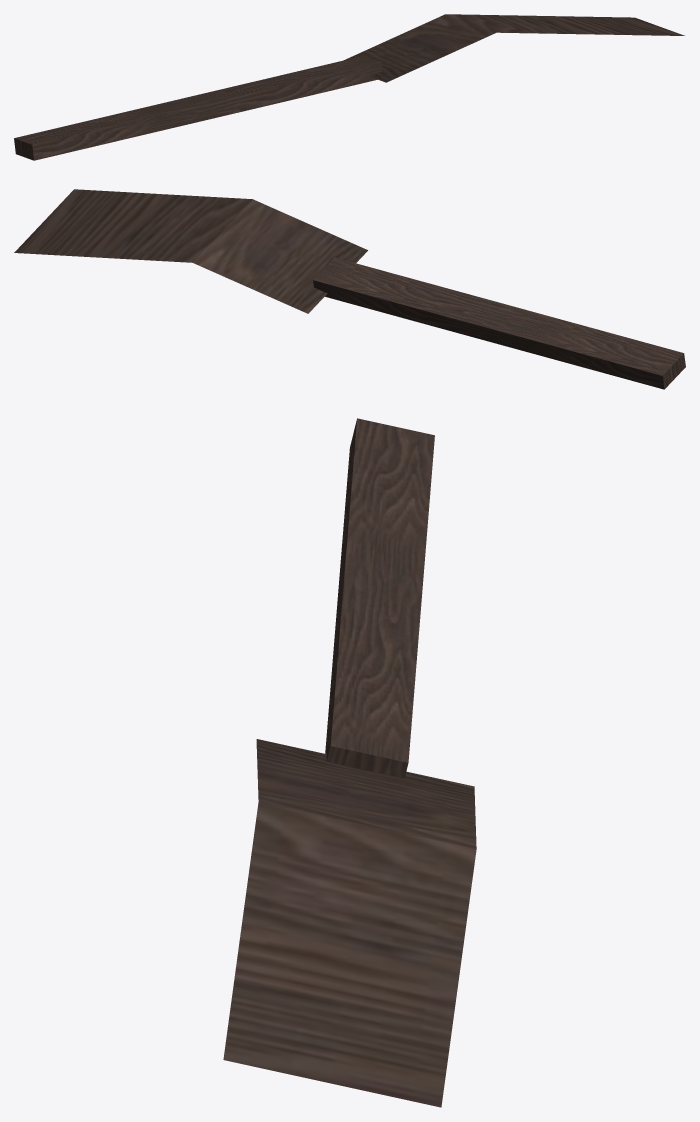
3 renders of one model, top to bottom at view 1: azimuth 30°, elevation 25°; view 2: azimuth 150°, elevation 25°; view 3: azimuth 270°, elevation 25°, orthographic. The views are drawn at different scales.
Visible parts, largest first — view 1: Cube063_Cutlery001_0; view 2: Cube063_Cutlery001_0; view 3: Cube063_Cutlery001_0.
Boxes of the visible parts, x1,y1,x2,y2 form: Cube063_Cutlery001_0: (14, 14, 684, 160); Cube063_Cutlery001_0: (14, 189, 685, 389); Cube063_Cutlery001_0: (223, 418, 476, 1107).
Size of the model in its own units: 0.2766 by 0.0268 by 0.0486.
Materials: 1 (1 with a texture image).
